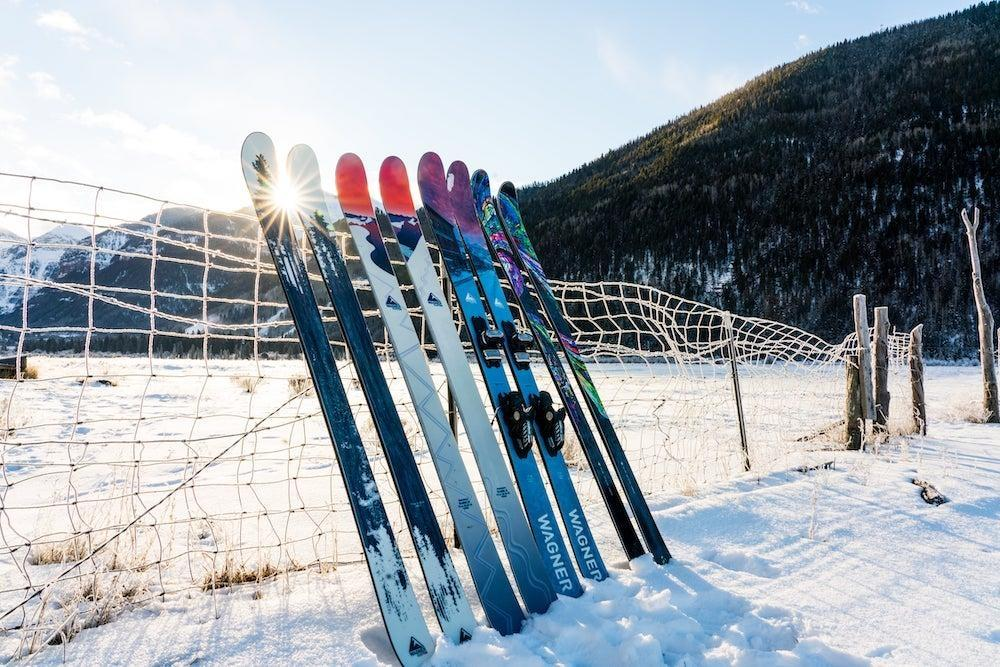Skis: (228, 123, 453, 667), (276, 138, 494, 653), (322, 139, 544, 642), (367, 146, 563, 621), (411, 145, 594, 607), (464, 163, 660, 583), (491, 177, 676, 569)
